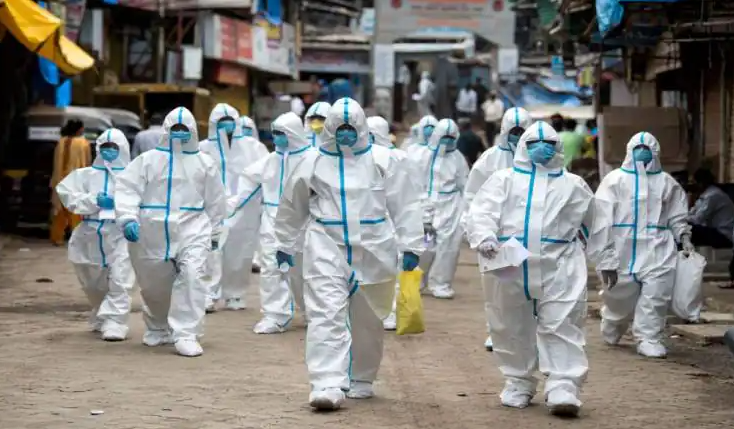Coverall: (279, 97, 415, 384), (473, 122, 594, 386), (120, 107, 218, 341), (596, 130, 686, 338), (60, 127, 138, 320), (411, 112, 472, 306), (209, 103, 263, 319)
Gloves: (396, 246, 422, 276), (120, 218, 142, 242)
